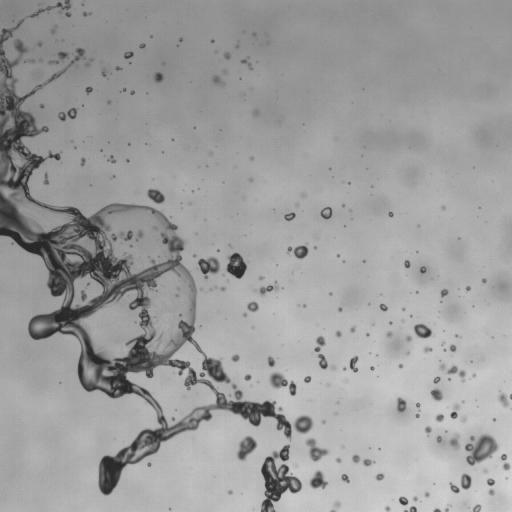droplet: (260, 445, 301, 511), (465, 434, 499, 465), (236, 435, 257, 461), (305, 438, 328, 461), (226, 252, 246, 278), (197, 256, 220, 278), (449, 473, 471, 493), (309, 470, 327, 488), (287, 244, 308, 258), (414, 323, 433, 338), (147, 189, 164, 203), (498, 391, 511, 407), (449, 433, 459, 449), (430, 388, 442, 401), (320, 207, 332, 219), (397, 397, 406, 412), (247, 301, 258, 312), (57, 51, 68, 60), (154, 72, 163, 82), (284, 212, 295, 220), (213, 75, 222, 84), (399, 496, 408, 505), (267, 356, 275, 366), (363, 459, 374, 466), (471, 504, 481, 511), (435, 414, 443, 422), (341, 474, 349, 482), (124, 51, 133, 58), (379, 304, 387, 311), (231, 354, 239, 361), (352, 455, 360, 462), (375, 473, 383, 480), (423, 346, 432, 352), (85, 86, 92, 93), (108, 156, 115, 163), (441, 289, 448, 296), (433, 376, 440, 383), (425, 426, 431, 434), (224, 52, 230, 59), (404, 260, 410, 267), (420, 266, 426, 273), (450, 344, 456, 351), (244, 374, 251, 380), (386, 331, 392, 337), (304, 376, 310, 382), (80, 158, 85, 165), (139, 43, 145, 48), (388, 211, 393, 217), (350, 326, 355, 332), (406, 335, 411, 341), (461, 416, 466, 422), (436, 436, 441, 442), (27, 59, 34, 63), (253, 110, 258, 115), (220, 286, 225, 291), (336, 331, 341, 336), (424, 492, 429, 497), (385, 506, 390, 511), (83, 12, 89, 16), (416, 403, 420, 409), (415, 412, 419, 418), (482, 278, 486, 283), (336, 458, 341, 462), (227, 490, 232, 494), (413, 496, 417, 501), (116, 66, 120, 70), (130, 90, 134, 94), (259, 276, 263, 280), (466, 286, 470, 290), (338, 307, 342, 311), (331, 365, 335, 369), (370, 366, 374, 370), (147, 462, 151, 466), (483, 469, 487, 473), (102, 70, 105, 75), (38, 42, 41, 46), (86, 62, 89, 66), (40, 104, 43, 108), (441, 206, 445, 209), (130, 243, 133, 247), (455, 334, 459, 337), (179, 38, 182, 41), (243, 313, 246, 316), (399, 364, 402, 367), (472, 374, 475, 377), (250, 157, 253, 159), (303, 193, 305, 196), (314, 246, 316, 249), (337, 254, 339, 257), (329, 292, 331, 295), (303, 304, 305, 307), (343, 367, 345, 370), (108, 101, 110, 103), (250, 179, 252, 181), (342, 204, 344, 206), (366, 333, 368, 335), (442, 342, 444, 344)
ligament: (0, 20, 310, 491), (29, 0, 70, 17), (269, 372, 296, 395), (438, 362, 465, 381), (314, 336, 327, 369), (258, 281, 279, 295), (58, 108, 76, 121), (500, 453, 511, 470), (349, 356, 358, 372), (486, 478, 494, 495), (450, 404, 459, 418), (241, 59, 252, 69), (330, 501, 340, 511), (403, 506, 416, 511), (44, 173, 48, 184), (48, 60, 58, 64), (443, 505, 449, 511), (51, 26, 56, 33), (433, 508, 441, 511)
